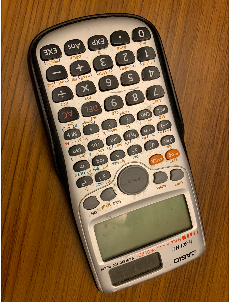Nonfood: (59, 48, 198, 267)
